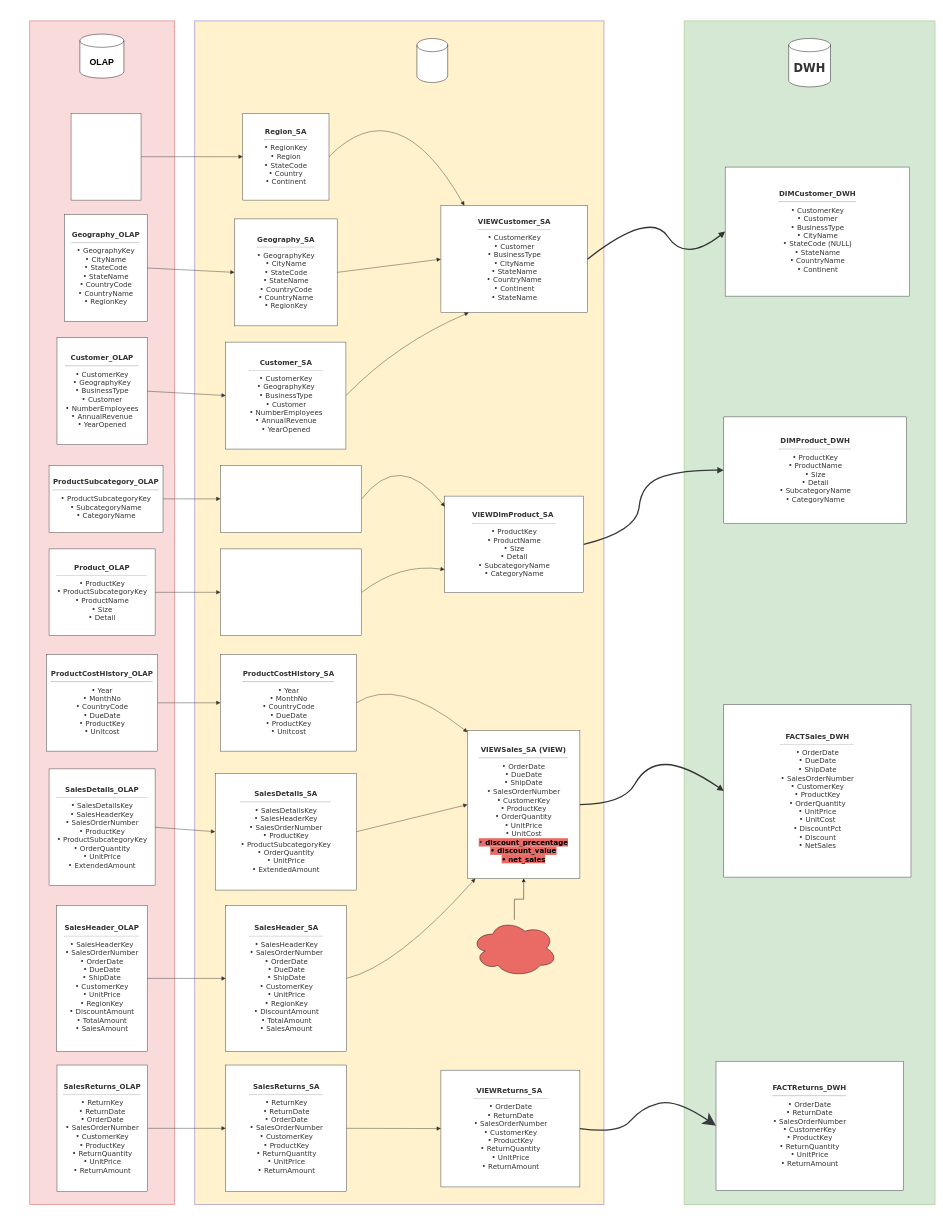
This 943x1216 diagram has some shape labels left out. Here are the shapes that lost their labels. From the top down, the centre of each, then its label:
At (432,60): "SA".
At (106,156): "Region_OLAP • RegionKey • Region • StateCode • Country • Continent".
At (291,498): "ProductSubcategory_SA • ProductSubcategoryKey • SubcategoryName • CategoryName".
At (291,592): "Product_SA • ProductKey • ProductSubcategoryKey • ProductName • Size • Detail".
At (514,948): "Calculated Column".
